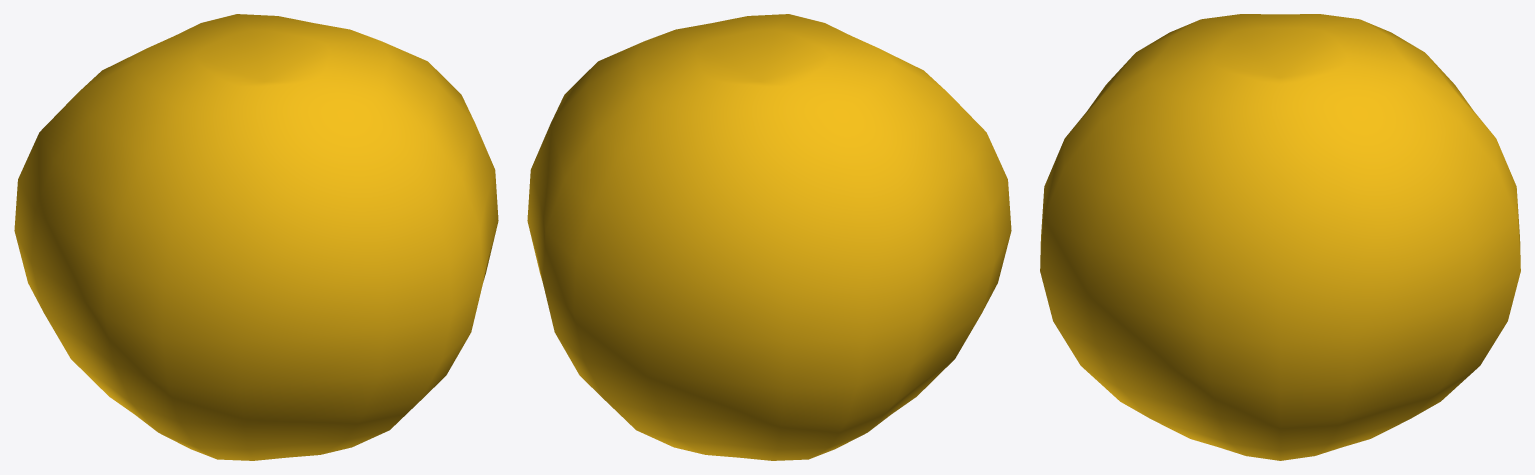
File: apple_turning.dae
3 renders of one model, left to right at view 1: azimuth 30°, elevation 25°; view 2: azimuth 150°, elevation 25°; view 3: azimuth 270°, elevation 25°, orthographic.
Visible parts, largest first — view 1: Tree; view 2: Tree; view 3: Tree.
Part boxes in pixels (<box>): Tree: <box>14,14,498,460</box>; Tree: <box>527,14,1011,460</box>; Tree: <box>1040,14,1520,460</box>.
Size of the model in its own units: 2.01 by 2.01 by 1.71.
